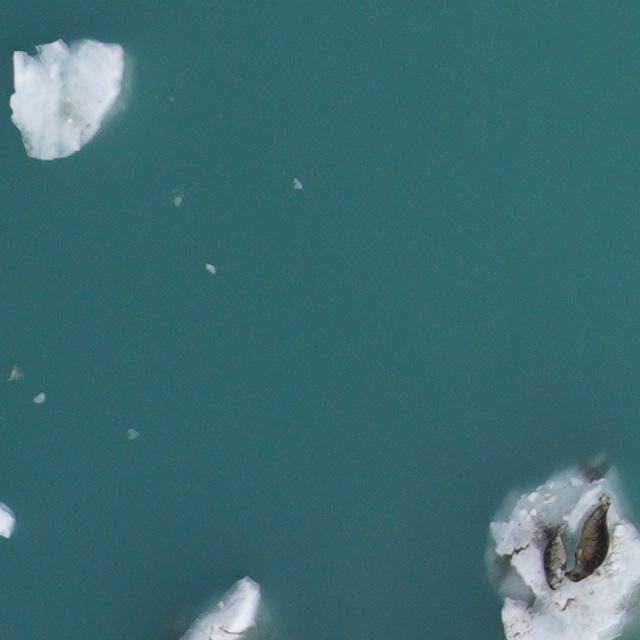seal: (564, 498, 617, 588), (542, 520, 568, 591)
